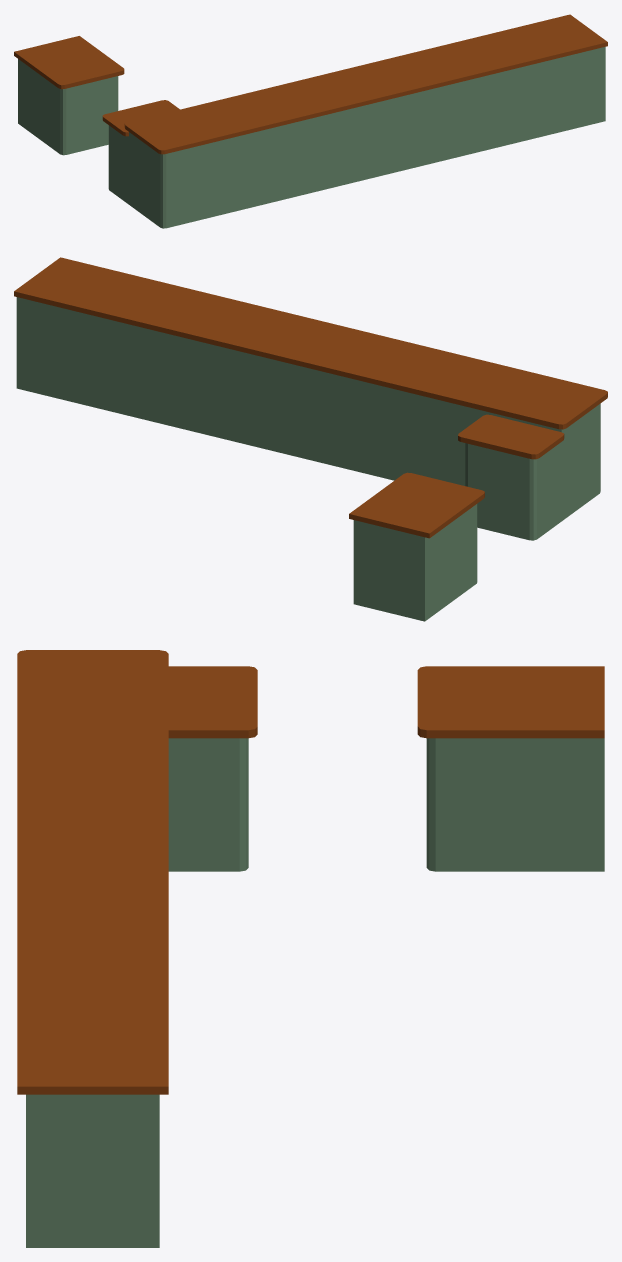
The model's file is Mesada02.fbx.
The picture shows the model from 3 angles, top to bottom: view 1: azimuth 30°, elevation 25°; view 2: azimuth 150°, elevation 25°; view 3: azimuth 270°, elevation 25°; orthographic projection. The views are drawn at different scales.
Parts seen in each view (by area): view 1: Mesada02; view 2: Mesada02; view 3: Mesada02.
Part boxes in pixels (<box>): Mesada02: <box>14,14,607,228</box>; Mesada02: <box>14,257,607,621</box>; Mesada02: <box>17,650,604,1247</box>.
Bounding box in the file's own units: 580 × 100 × 330.
